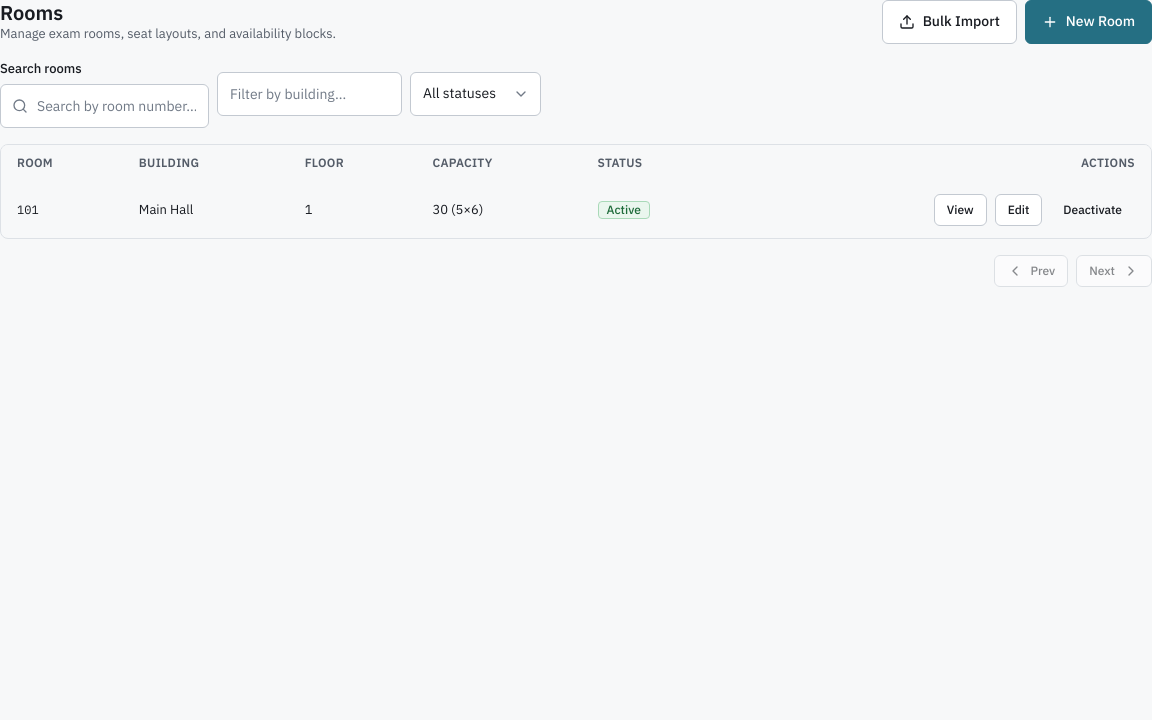
Rooms list › deactivates a room
The width and height of the screenshot is (1152, 720).
Expected: the text "101" is shown, [17,202,39,217]
Click the button "Deactivate".
click(1093, 210)  # box [1050,194,1135,226]
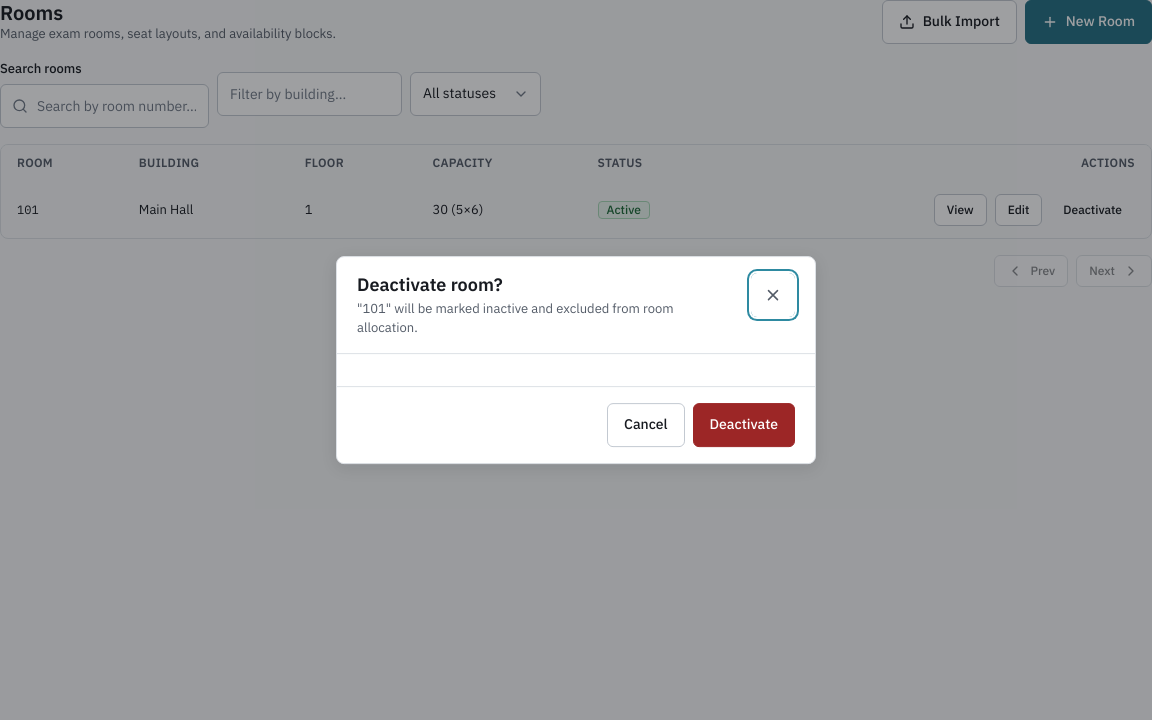
Click the button "Deactivate".
click(744, 425)  # box [692,403,795,447]
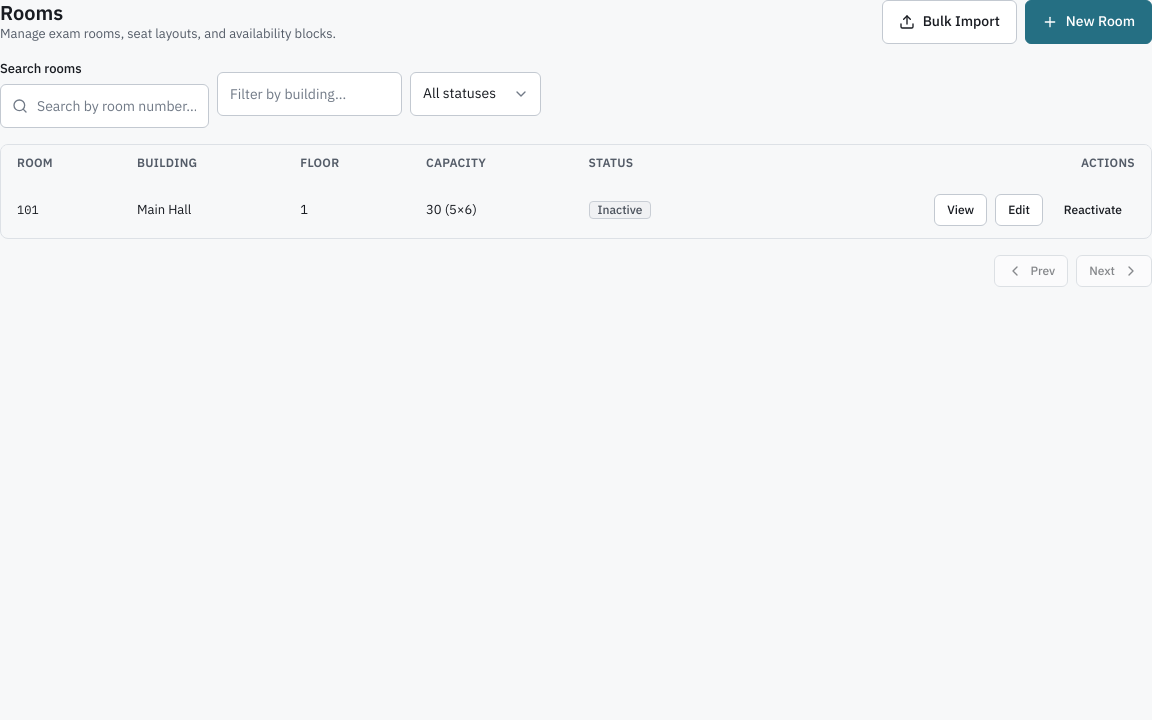
Expected: the text "Inactive" is shown, [589,201,652,219]
